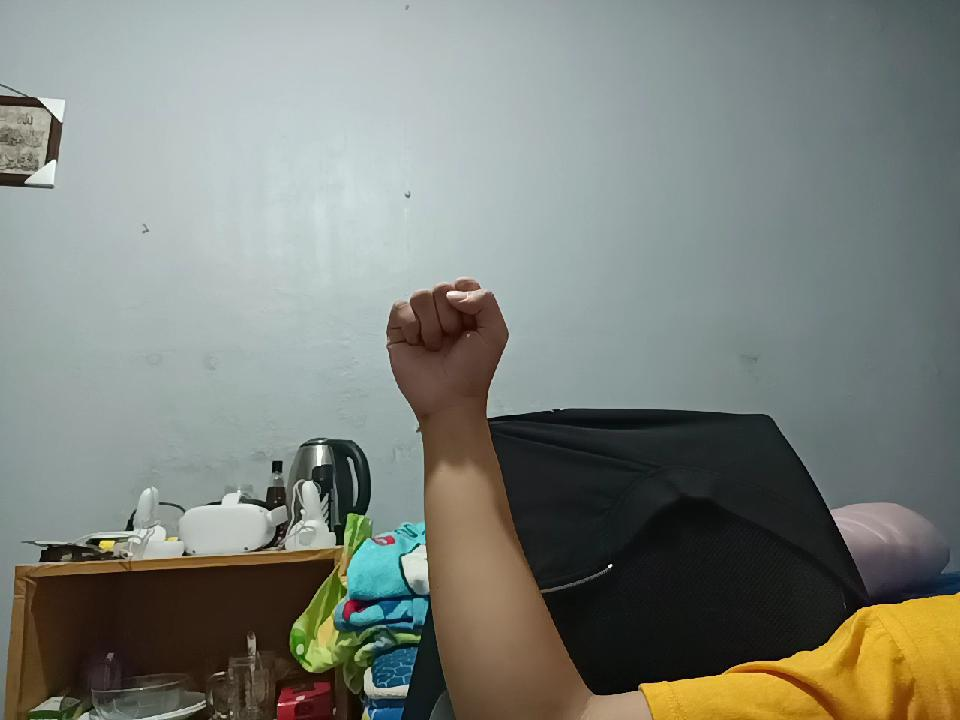rock: (384, 270, 512, 428)
